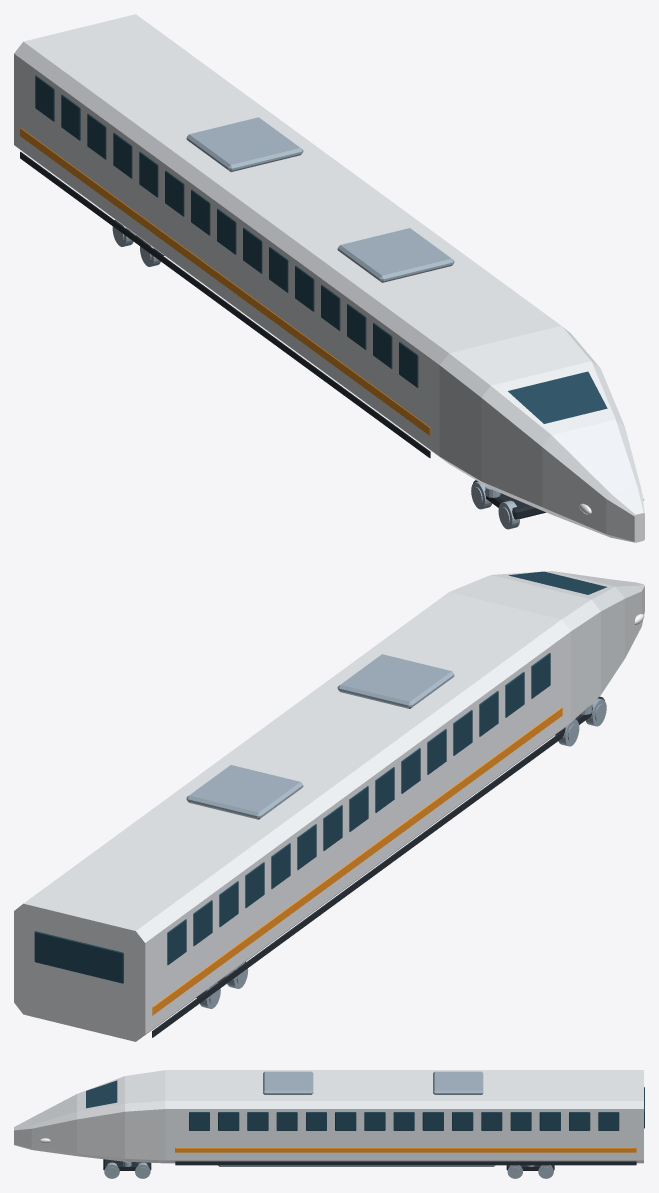
Rendered from taiwan-hsr.glb.
The picture shows the model from 3 angles, top to bottom: view 1: azimuth 30°, elevation 25°; view 2: azimuth 150°, elevation 25°; view 3: azimuth 270°, elevation 25°; orthographic projection. The views are drawn at different scales.
Visible parts, largest first — view 1: Original aerodynamic high-speed nose and shell, Distinctive waist stripe, Roof HVAC module, Roof HVAC module.001, Dark skirt sill, Raked HSR cockpit windscreen; view 2: Original aerodynamic high-speed nose and shell, Distinctive waist stripe, Roof HVAC module.001, Roof HVAC module, Dark skirt sill, High-speed rear cab window, Raked HSR cockpit windscreen, Passenger rail window, Passenger rail window.002, Passenger rail window.004, Passenger rail window.006, Passenger rail window.010 (+10 smaller); view 3: Original aerodynamic high-speed nose and shell, Distinctive waist stripe.001, Dark skirt sill.001, Roof HVAC module, Roof HVAC module.001, Raked HSR cockpit windscreen, Underfloor equipment trunk, Passenger rail window.015, Passenger rail window.017, Passenger rail window.018, Passenger rail window.019, Passenger rail window.020 (+11 smaller).
Part boxes in pixels (x1,y1,x2,y2): Original aerodynamic high-speed nose and shell: (14, 14, 644, 542); Distinctive waist stripe: (20, 127, 430, 435); Roof HVAC module: (186, 117, 303, 171); Roof HVAC module.001: (337, 228, 454, 282); Dark skirt sill: (20, 151, 430, 457); Raked HSR cockpit windscreen: (508, 371, 607, 423); Original aerodynamic high-speed nose and shell: (14, 571, 644, 1041); Distinctive waist stripe: (152, 707, 562, 1015); Roof HVAC module.001: (337, 654, 454, 708); Roof HVAC module: (186, 765, 303, 819); Dark skirt sill: (152, 731, 562, 1037); High-speed rear cab window: (34, 931, 123, 983); Raked HSR cockpit windscreen: (508, 571, 606, 594); Passenger rail window: (167, 919, 186, 964); Passenger rail window.002: (219, 881, 238, 926); Passenger rail window.004: (271, 843, 290, 888); Passenger rail window.006: (323, 805, 342, 850); Passenger rail window.010: (427, 729, 446, 774); Original aerodynamic high-speed nose and shell: (14, 1070, 643, 1163); Distinctive waist stripe.001: (175, 1147, 636, 1152); Dark skirt sill.001: (175, 1161, 636, 1165); Roof HVAC module: (433, 1071, 483, 1094); Roof HVAC module.001: (263, 1071, 313, 1094); Raked HSR cockpit windscreen: (86, 1080, 117, 1108); Underfloor equipment trunk: (218, 1165, 495, 1166); Passenger rail window.015: (598, 1112, 619, 1130); Passenger rail window.017: (539, 1112, 560, 1130); Passenger rail window.018: (510, 1112, 531, 1130); Passenger rail window.019: (481, 1112, 502, 1130); Passenger rail window.020: (452, 1112, 473, 1130).
Size of the model in its own units: 3.44 by 3.71 by 25.04.
